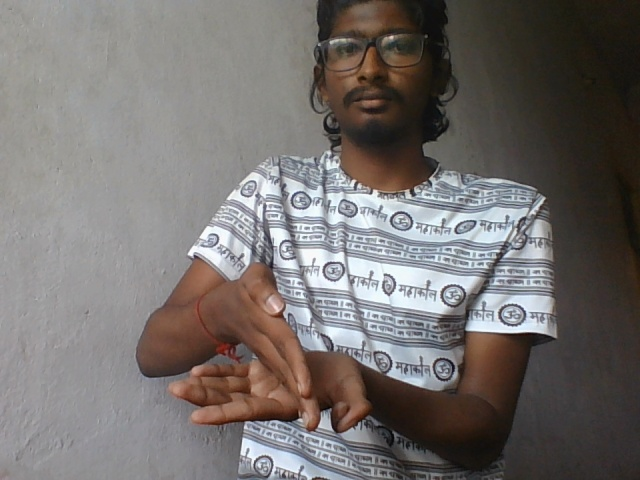Done: (164, 264, 381, 446)
